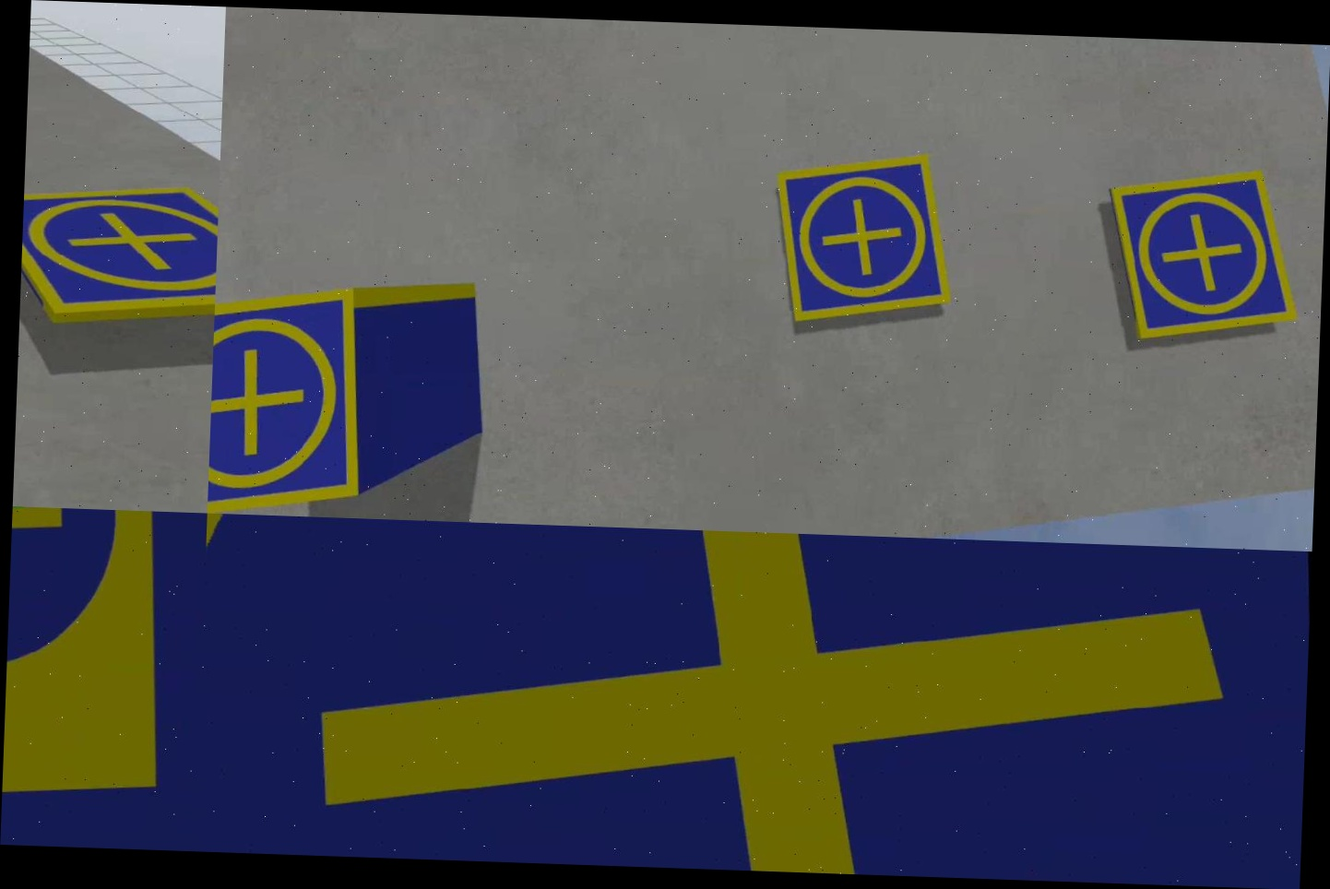large_base: (0, 506, 208, 850)
small_base: (195, 514, 1312, 889), (208, 281, 371, 518), (1104, 163, 1305, 347), (770, 148, 959, 331), (19, 170, 220, 338)
